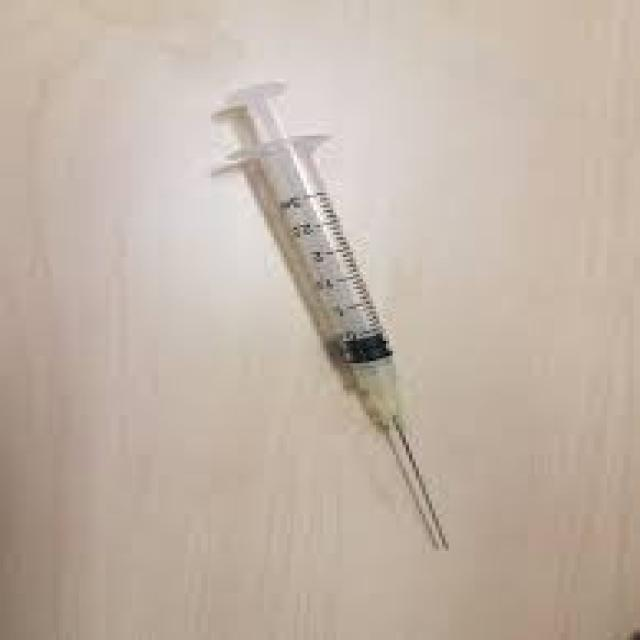syringe: (204, 76, 452, 548)
